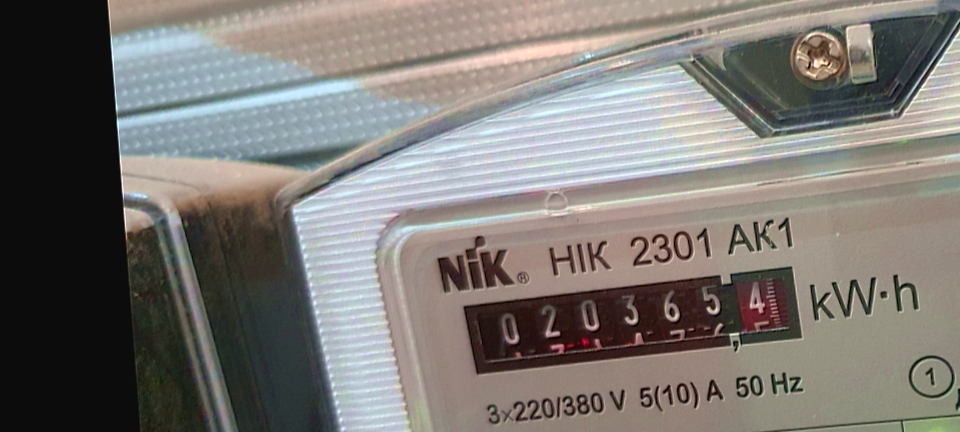0: (578, 298, 600, 335), (497, 312, 520, 347)
2: (536, 303, 561, 341)
3: (618, 292, 639, 328)
4: (744, 280, 765, 316)
5: (698, 284, 721, 318)
6: (658, 288, 680, 325)
screen: (444, 256, 820, 386)
